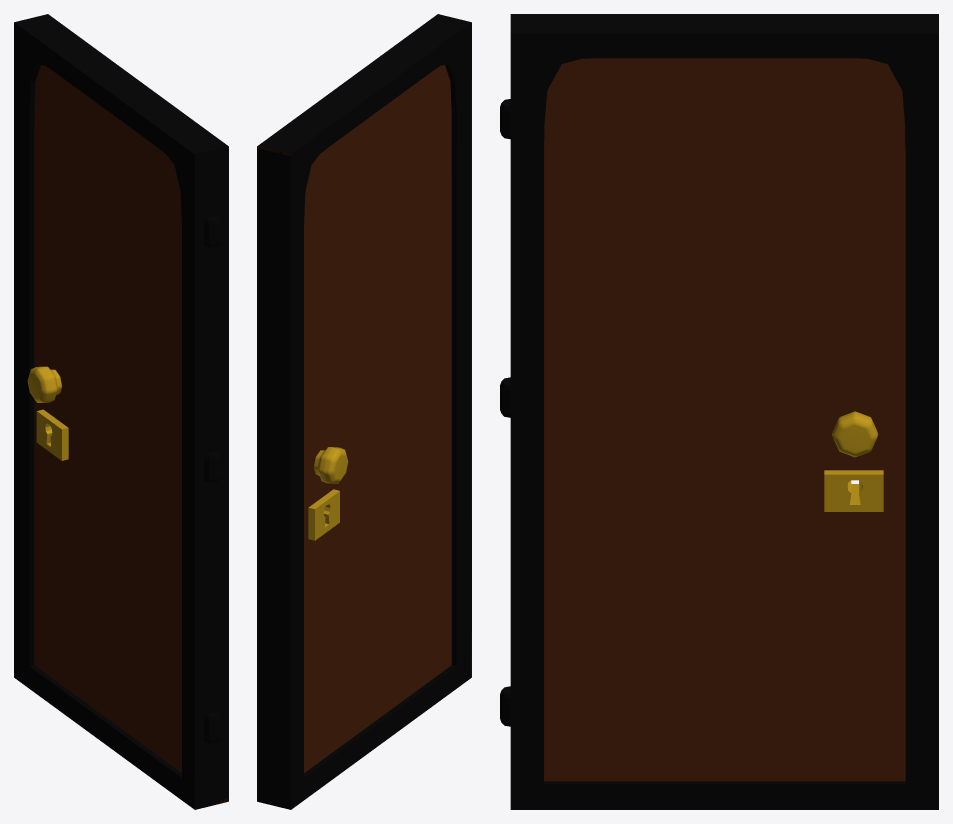
The model's file is Door.fbx.
3 views of the same model, side by side, from view 1: azimuth 30°, elevation 25°; view 2: azimuth 150°, elevation 25°; view 3: azimuth 270°, elevation 25° (orthographic). The views are drawn at different scales.
Visible parts, largest first — view 1: Door, Keyhole, Clanche; view 2: Door, Keyhole, Clanche; view 3: Door, Keyhole, Clanche.
Boxes of the visible parts, x1,y1,x2,y2 form: Door: [14, 14, 228, 809]; Keyhole: [36, 409, 68, 460]; Clanche: [27, 366, 61, 402]; Door: [257, 14, 471, 809]; Keyhole: [308, 489, 339, 540]; Clanche: [314, 447, 348, 483]; Door: [500, 14, 938, 809]; Keyhole: [824, 470, 883, 511]; Clanche: [832, 411, 878, 457].
Size of the model in its own units: 0.2023 by 2 by 1.02.
